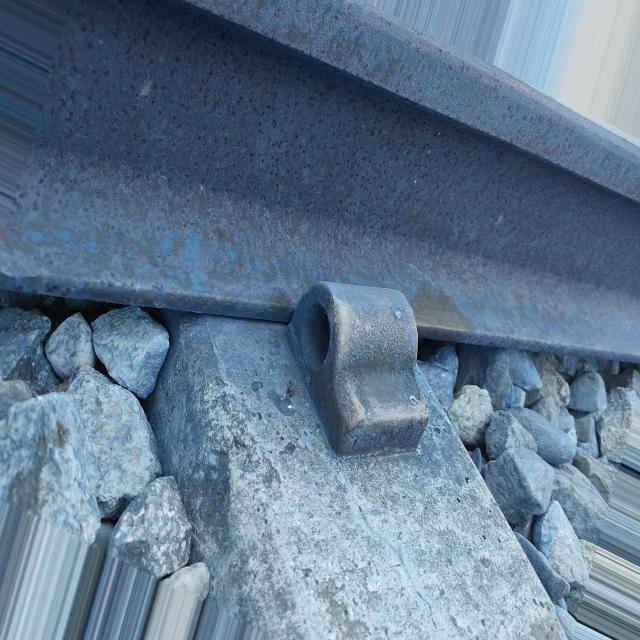Missing Fastener: (288, 282, 428, 455)
